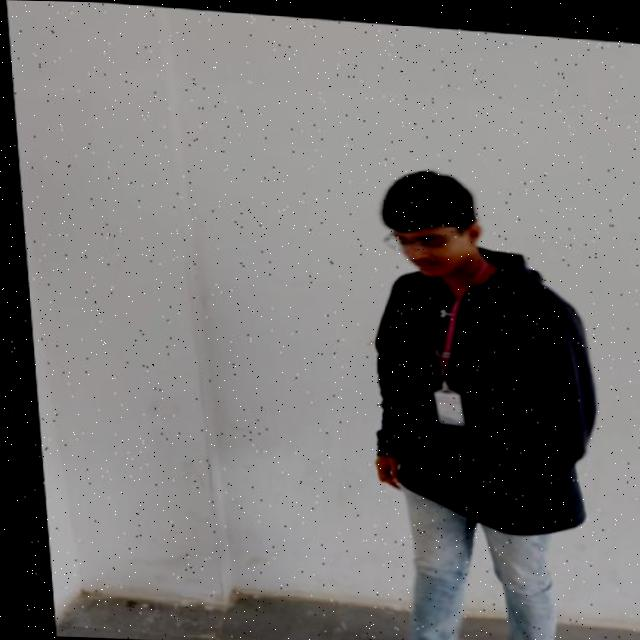id_card: (408, 272, 487, 432)
